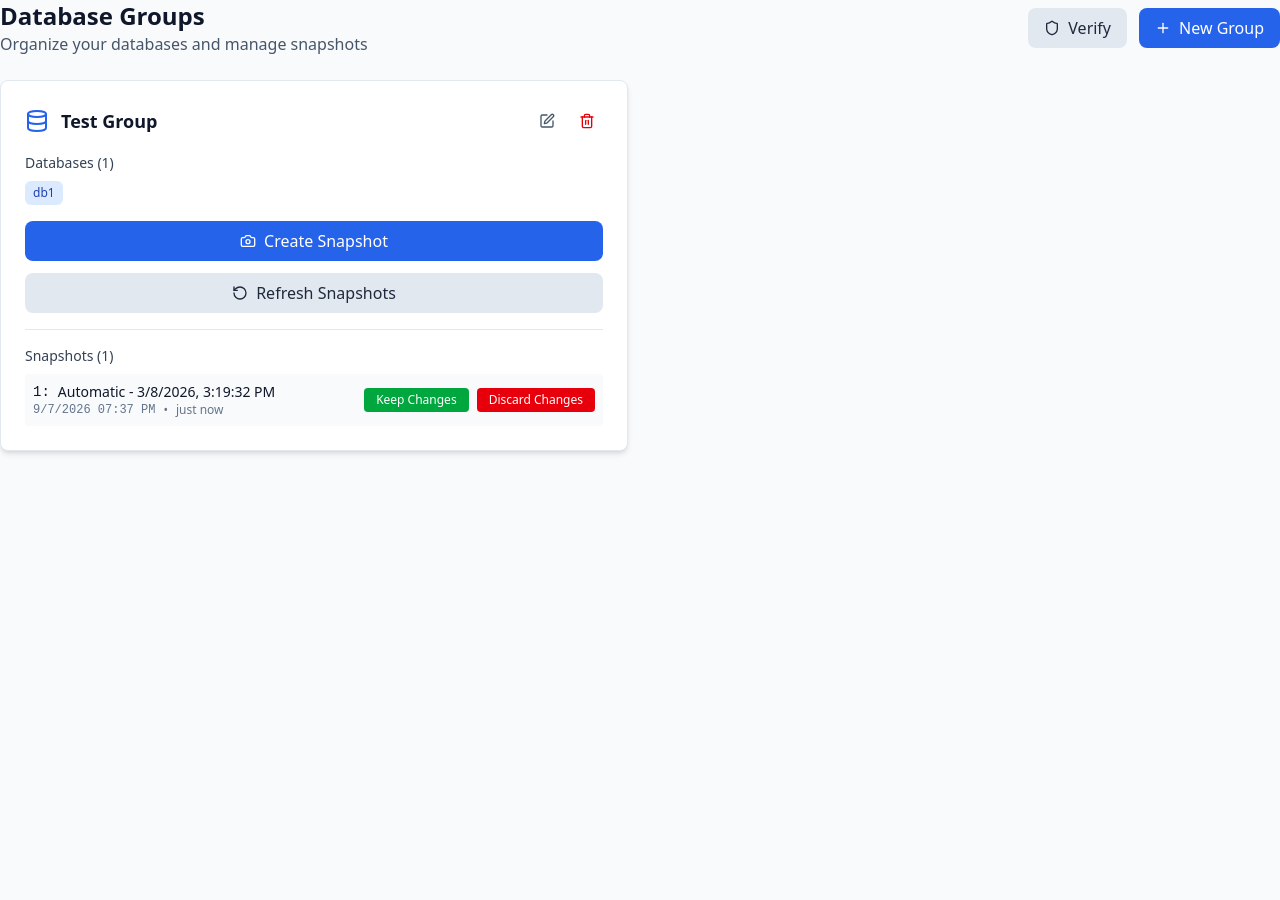
Test: GroupsManager - Discard Changes Modal › should show checkbox unchecked when autoCreateCheckpoint setting is false
expect the heading "Test Group" is shown: met, box [61, 107, 158, 135]
What coordinates should you click on to do the following:
click the button "Discard Changes"
I would click on:
 (536, 400)
Its box is [477, 388, 595, 412].
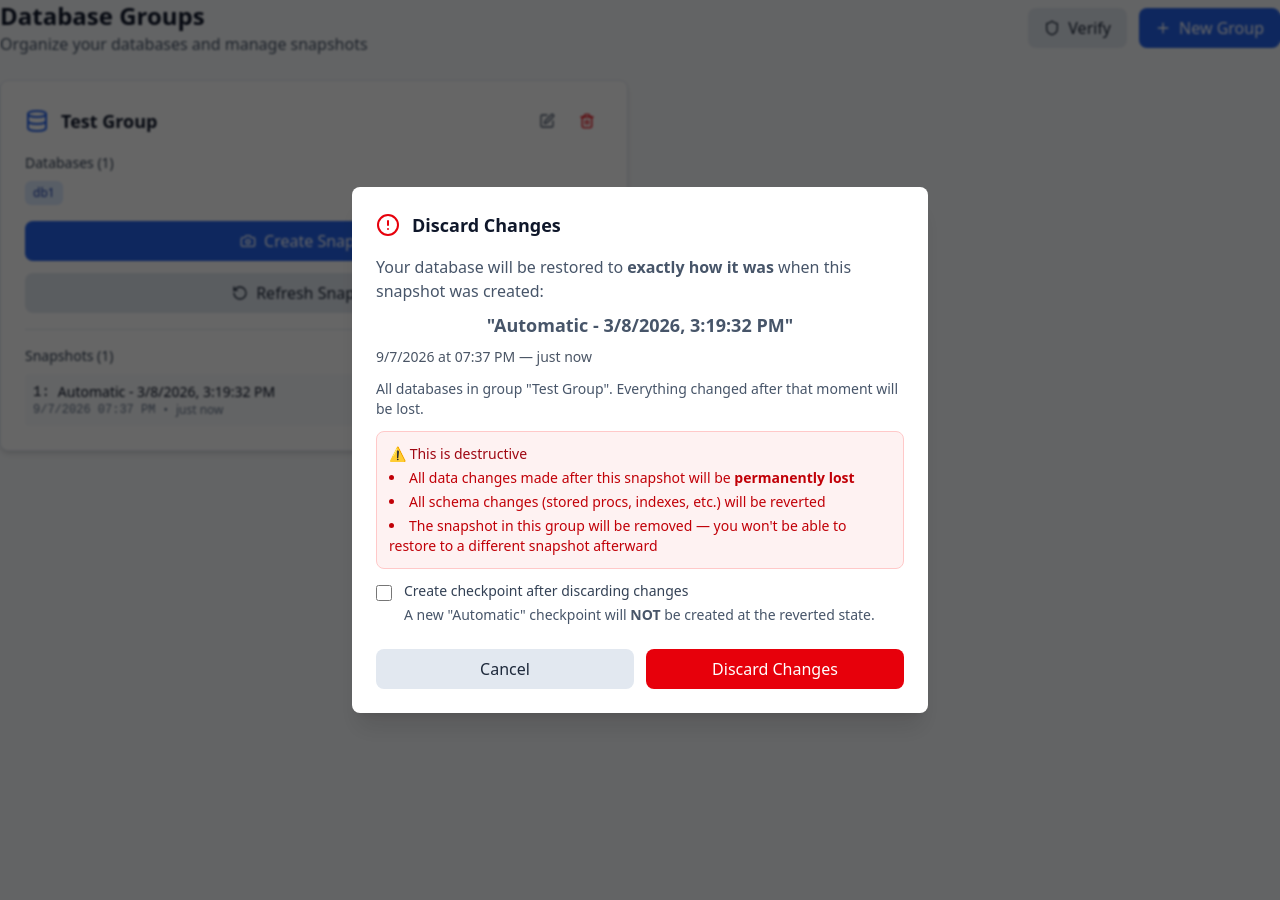
expect the dialog "Discard Changes" is shown: met
expect the checkbox labelled "Create checkpoint after discarding changes" is not checked: met, box [376, 585, 392, 601]
